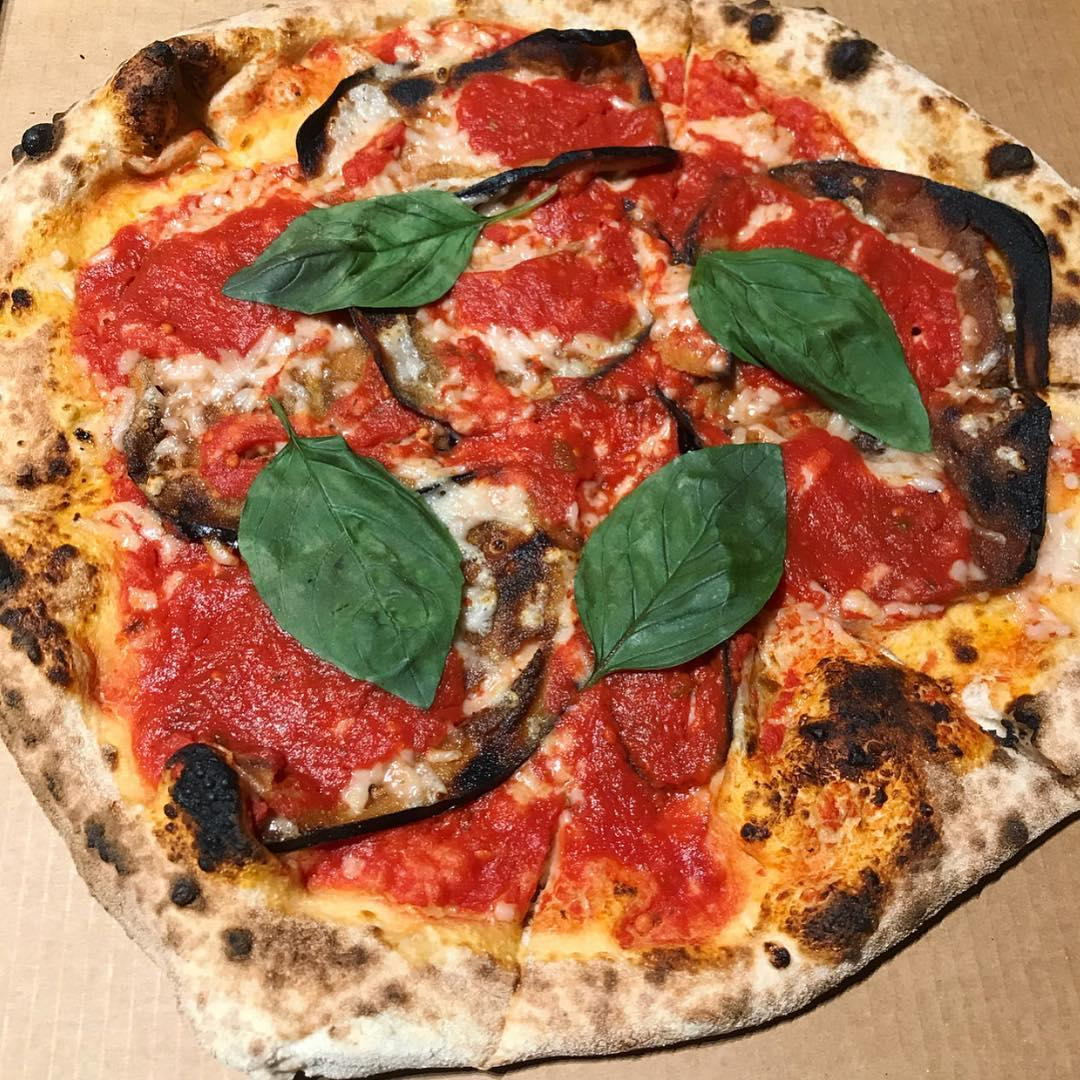Basil: (267, 445, 453, 700), (710, 245, 935, 440), (592, 457, 783, 673), (223, 185, 482, 312)
Pizza: (0, 0, 1080, 1080)
